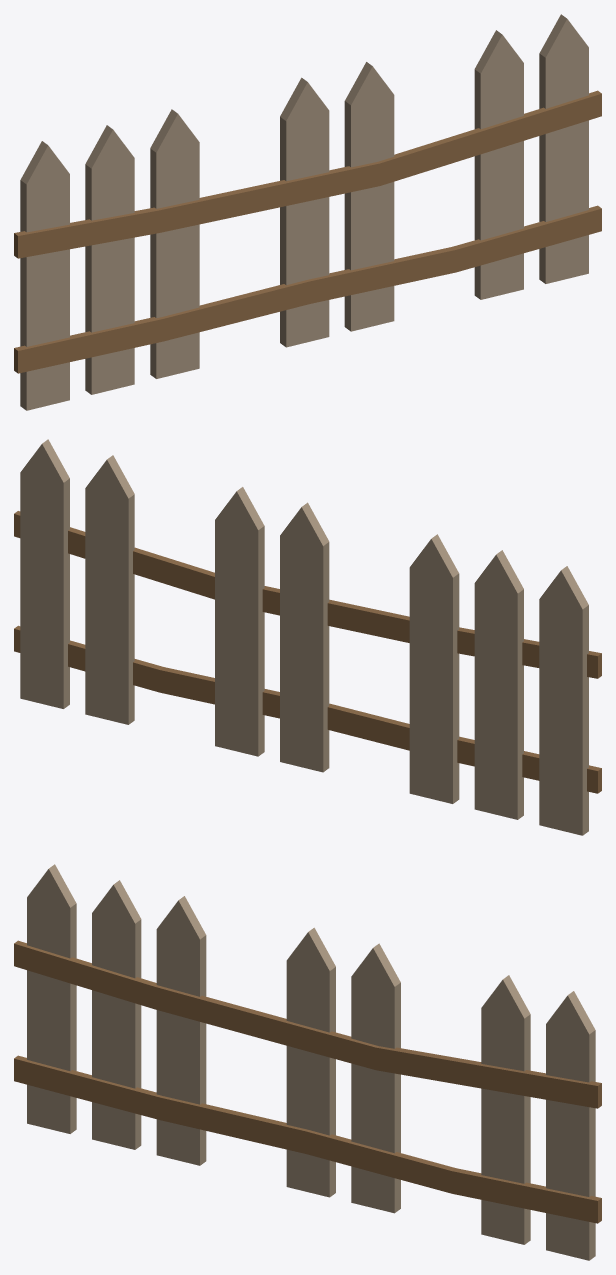
Rendered from Fence_5.fbx.
3 views of the same model, one above another, from view 1: azimuth 30°, elevation 25°; view 2: azimuth 150°, elevation 25°; view 3: azimuth 330°, elevation 25° (orthographic).
Parts seen in each view (by area): view 1: Plane; view 2: Plane; view 3: Plane.
Boxes of the visible parts, x1,y1,x2,y2 form: Plane: (14,14,601,410); Plane: (14,439,601,835); Plane: (14,864,601,1260).
Size of the model in its own units: 5.4 by 2.3 by 0.1359.
